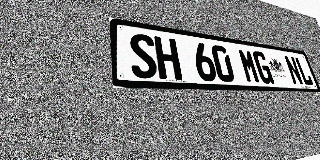0: (210, 44, 235, 82)
6: (191, 41, 218, 81)
G: (252, 50, 275, 84)
H: (154, 36, 182, 80)
L: (294, 57, 314, 86)
M: (237, 48, 261, 83)
N: (283, 55, 304, 85)
S: (128, 32, 158, 79)
